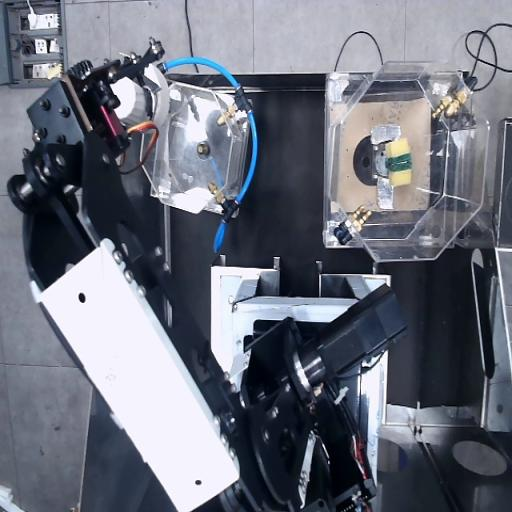cup in rinse station: (111, 64, 170, 127)
